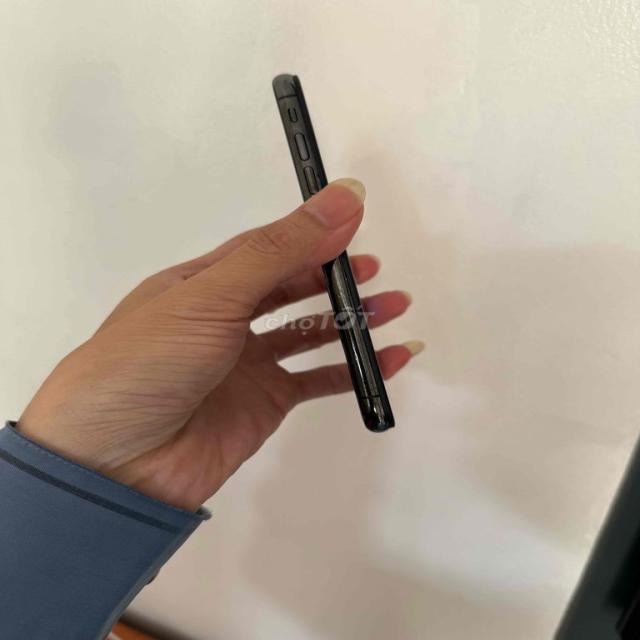gen_x_xs: (323, 251, 394, 432), (272, 74, 326, 201)
